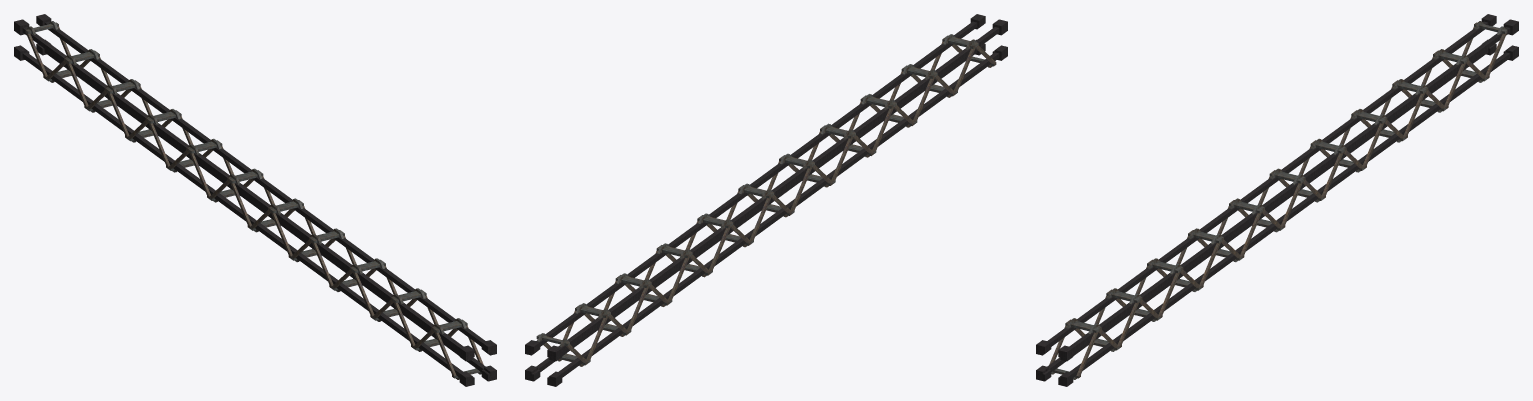
The model's file is zigzag1_no_pipes.fbx.
3 views of the same model, side by side, from view 1: azimuth 30°, elevation 25°; view 2: azimuth 150°, elevation 25°; view 3: azimuth 330°, elevation 25° (orthographic).
Visible parts, largest first — view 1: Object; view 2: Object; view 3: Object.
Boxes of the visible parts, x1=… form: Object: x1=14, y1=14, x2=496, y2=386; Object: x1=525, y1=14, x2=1007, y2=386; Object: x1=1036, y1=14, x2=1518, y2=386.
Bounding box in the file's own units: 350 × 425 × 8850.
